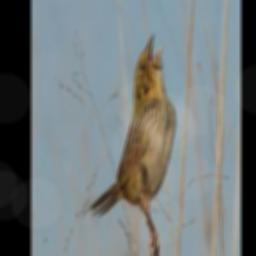Sparrow: (86, 32, 177, 256)
